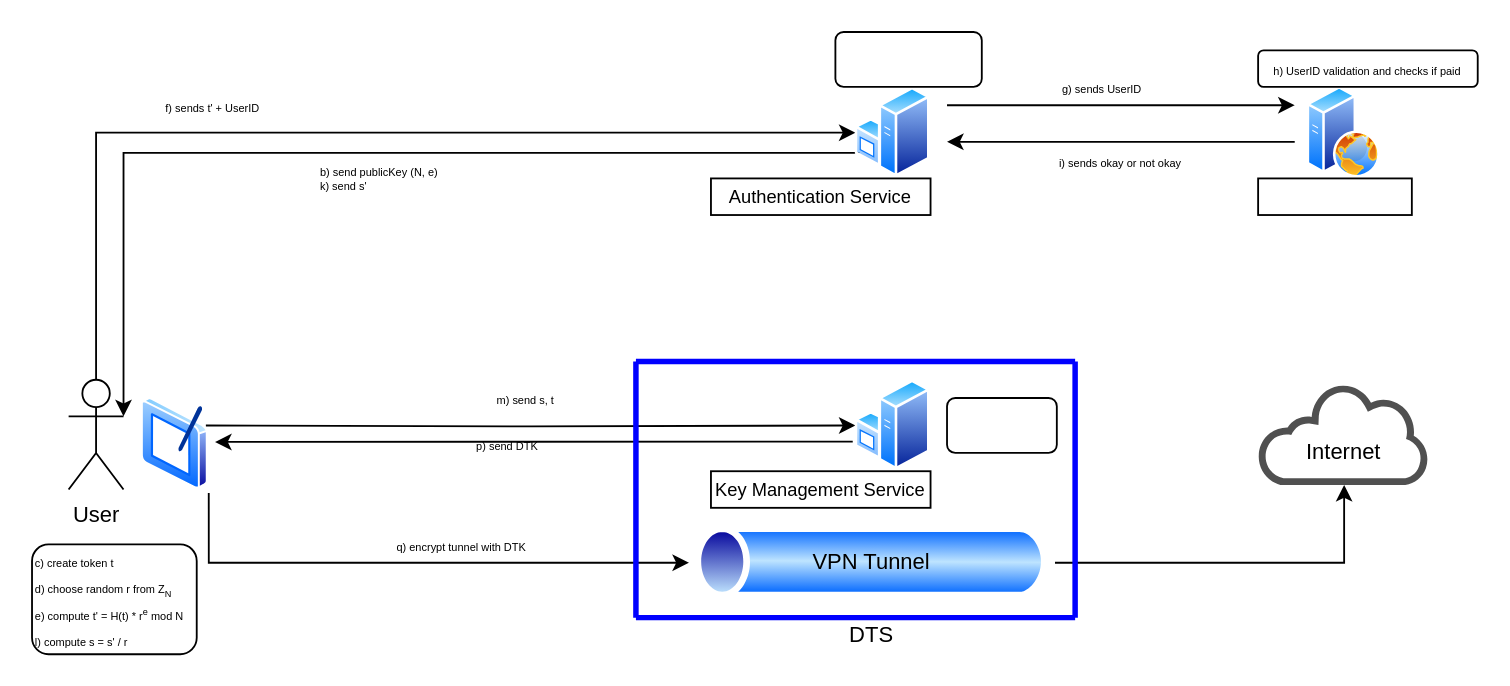
Image size: 1510x686. Some labels were removed from this diagram. Here are the shapes that lost their labels. From the top down, the box of each, then its label:
(834, 30, 982, 87): a) KeyGen() j) computes s' = t' d mod N
(1256, 177, 1412, 215): Google One
(945, 396, 1057, 453): n) checks if s e =H(t) o) generate DTK
